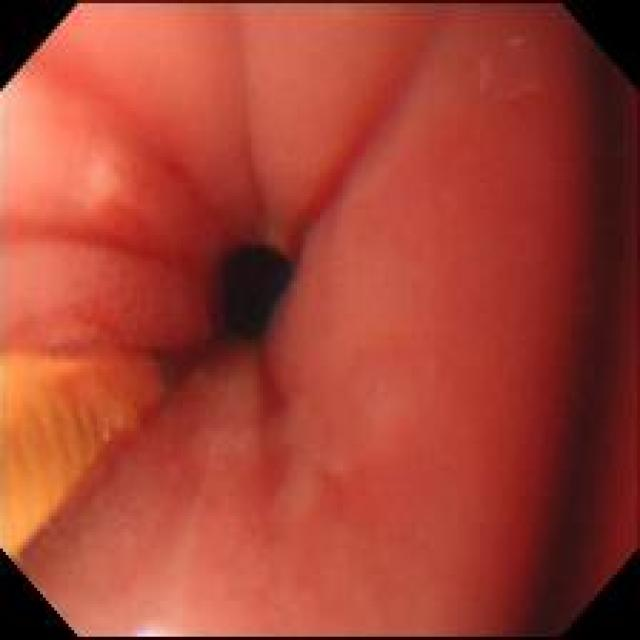contrast: (217, 234, 289, 336)
instrument: (0, 336, 182, 559)
